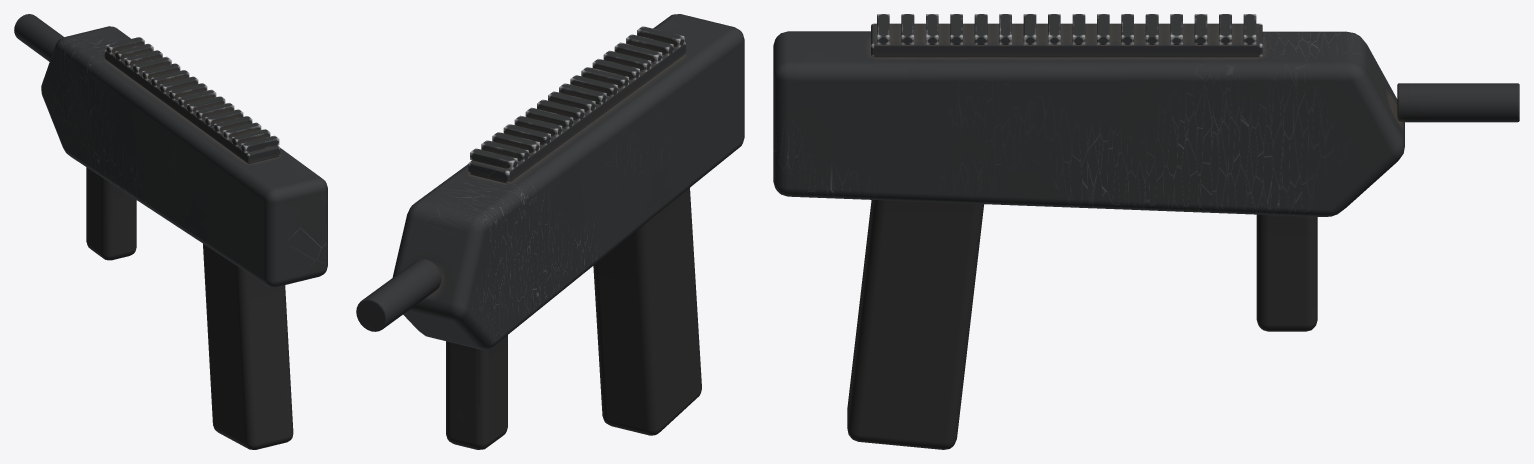
The picture shows the model from 3 angles, left to right: view 1: azimuth 30°, elevation 25°; view 2: azimuth 150°, elevation 25°; view 3: azimuth 270°, elevation 25°; orthographic projection. The views are drawn at different scales.
Parts seen in each view (by area): view 1: Frame, Mag_body; view 2: Frame, Mag_body; view 3: Frame, Mag_body.
Boxes of the visible parts, box(x1,y1,x2,y2) form: Frame: box(14, 14, 327, 287); Mag_body: box(203, 244, 293, 449); Frame: box(356, 14, 744, 449); Mag_body: box(593, 188, 701, 435); Frame: box(773, 14, 1519, 331); Mag_body: box(847, 200, 983, 449).
Size of the model in its own units: 0.04 by 0.1864 by 0.305.
Materials: 3 (3 with a texture image).
